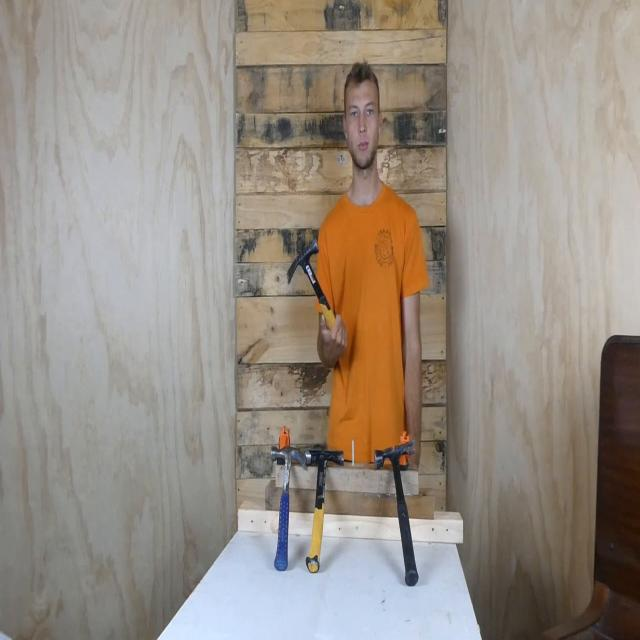hammer: (375, 441, 418, 586), (286, 238, 339, 334), (306, 449, 344, 574), (270, 445, 306, 572)
